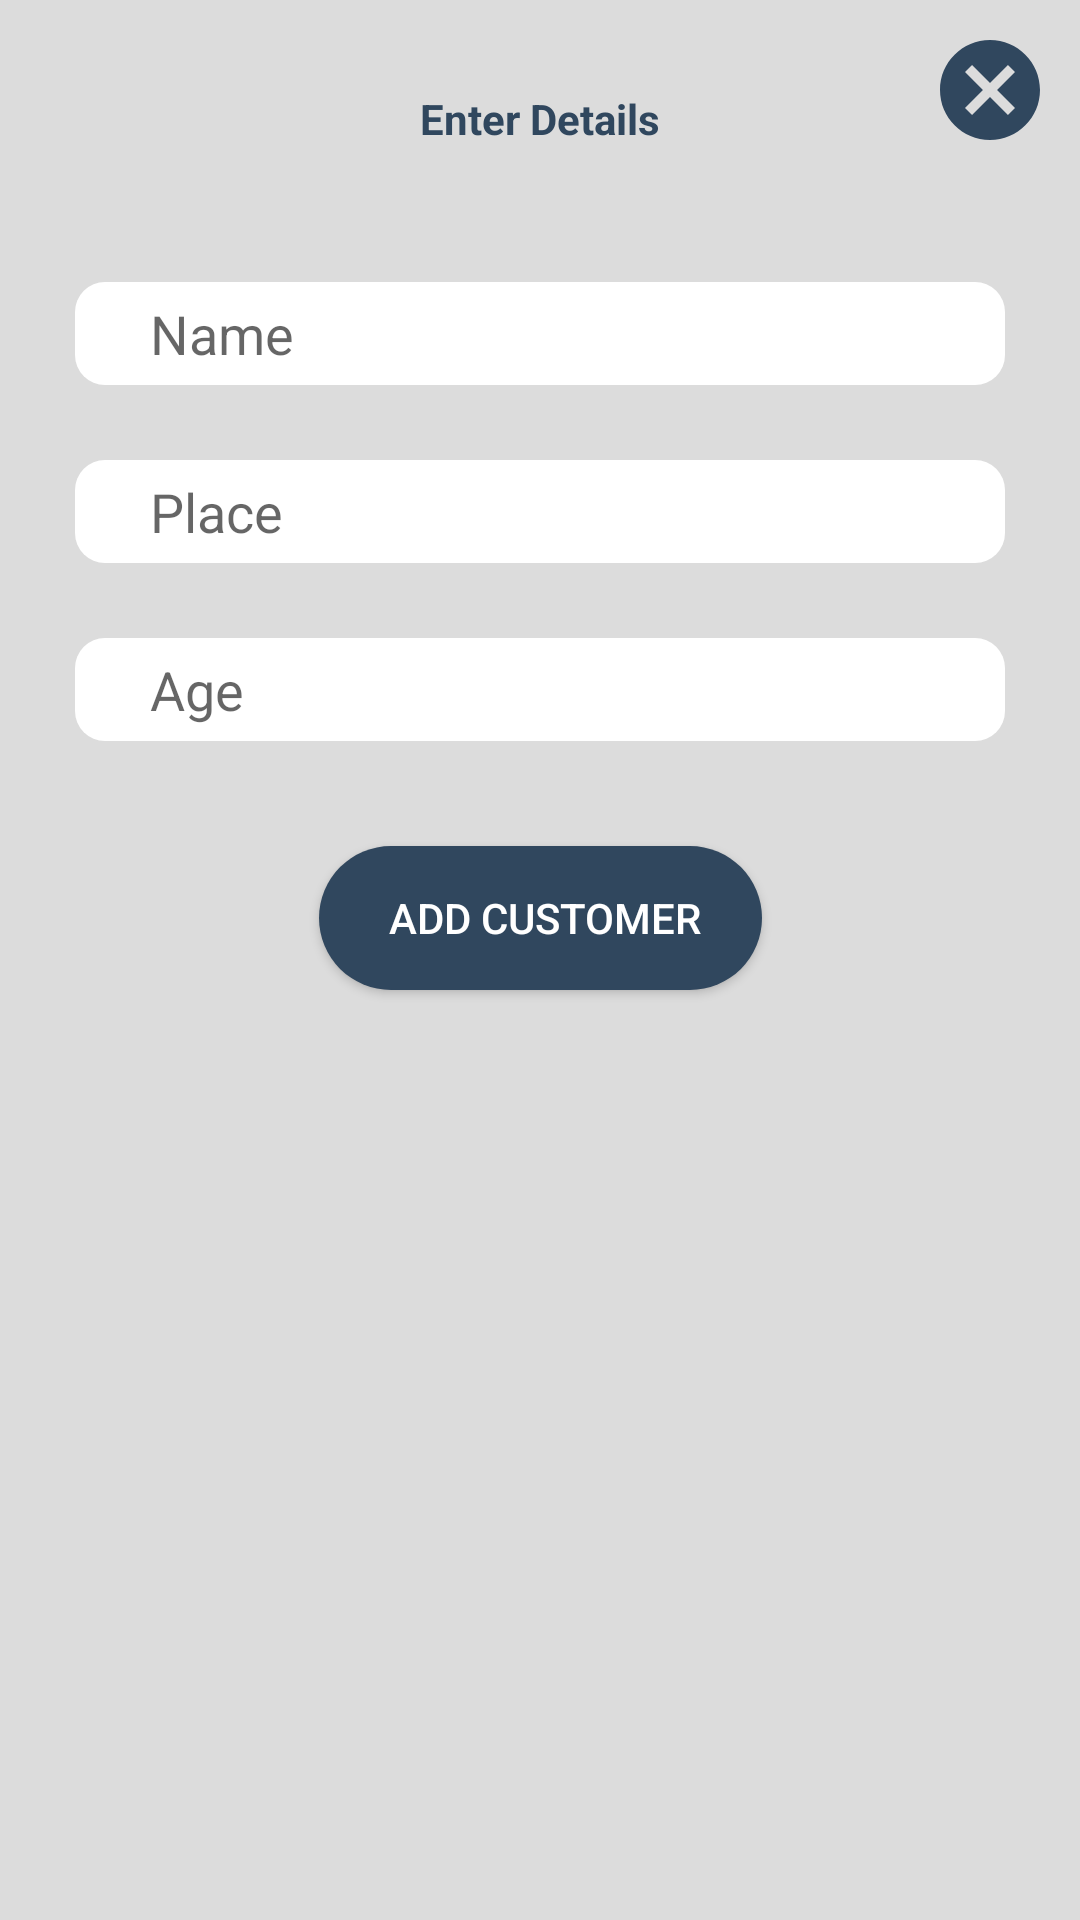

Where to tap for icons on this 1080*1920 app screen, as (x=x, y=y):
Close: (x=990, y=90)
